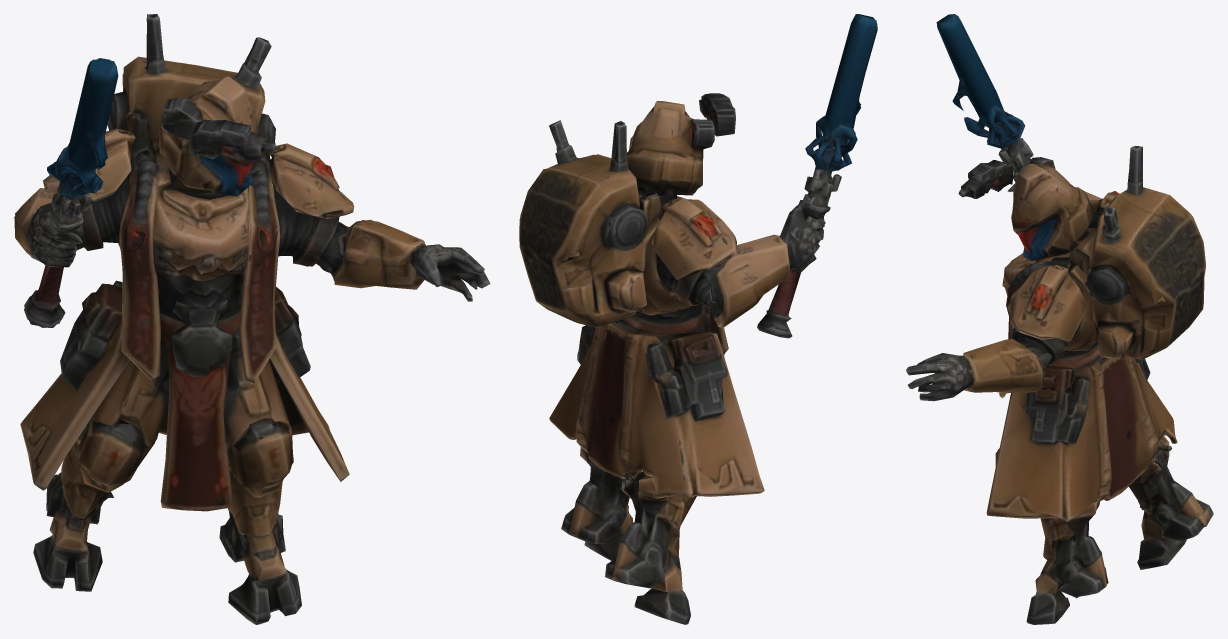
File: 02_Grunt Leader.glb
The picture shows the model from 3 angles, left to right: view 1: azimuth 30°, elevation 25°; view 2: azimuth 150°, elevation 25°; view 3: azimuth 270°, elevation 25°; orthographic projection. The views are drawn at different scales.
Size of the model in its own units: 0.6101 by 0.9969 by 0.5378.
1 material, 1 textured.
